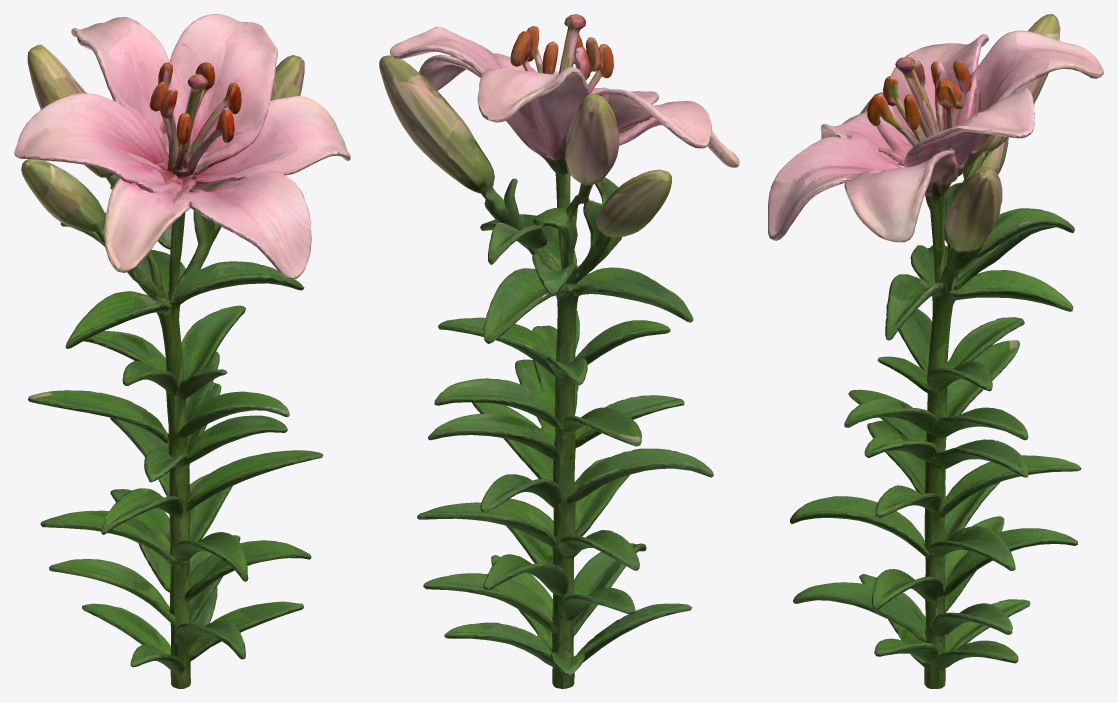
The model's file is lux-lily.glb.
3 views of the same model, side by side, from view 1: azimuth 30°, elevation 25°; view 2: azimuth 150°, elevation 25°; view 3: azimuth 270°, elevation 25° (orthographic). The views are drawn at different scales.
Visible parts, largest first — view 1: geometry_0; view 2: geometry_0; view 3: geometry_0.
Boxes of the visible parts, x1=… form: geometry_0: x1=14, y1=14, x2=350, y2=688; geometry_0: x1=379, y1=14, x2=739, y2=688; geometry_0: x1=768, y1=14, x2=1103, y2=688.
Bounding box in the file's own units: 0.4043 × 0.8 × 0.3857.
1 material, 1 textured.
